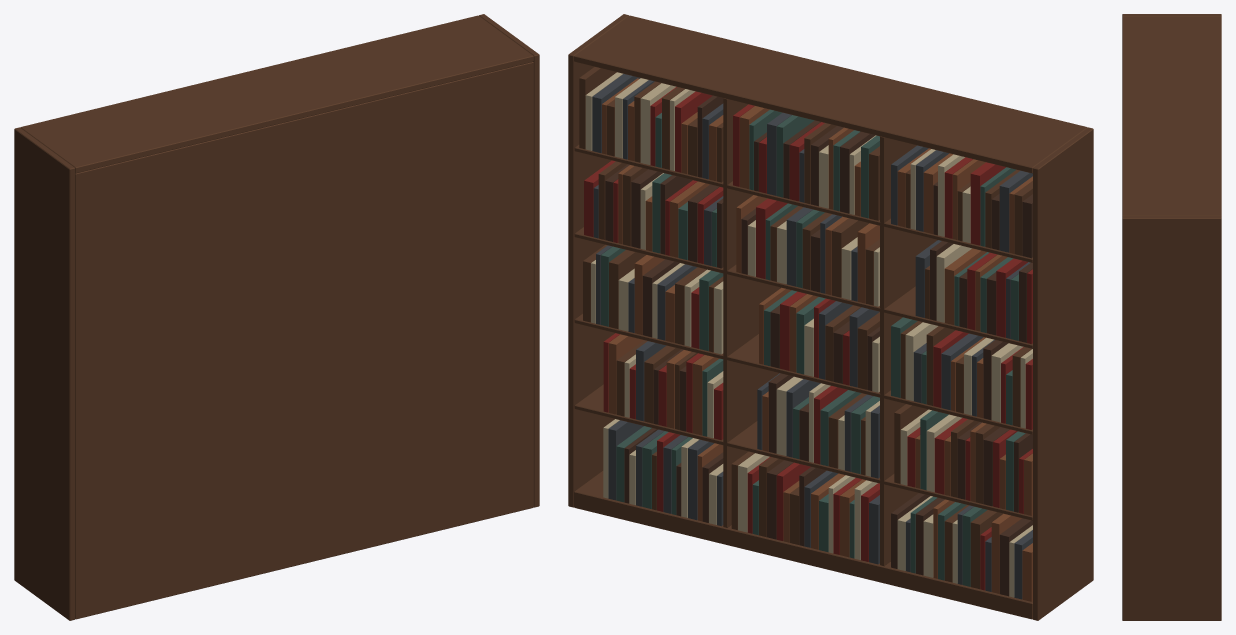
The model's file is prop_bookcase_w240.glb.
3 views of the same model, side by side, from view 1: azimuth 30°, elevation 25°; view 2: azimuth 150°, elevation 25°; view 3: azimuth 270°, elevation 25° (orthographic). The views are drawn at different scales.
Visible parts, largest first — view 1: Bookcase; view 2: Bookcase; view 3: Bookcase.
Boxes of the visible parts, x1,y1,x2,y2 form: Bookcase: [14, 14, 539, 620]; Bookcase: [568, 14, 1093, 620]; Bookcase: [1122, 14, 1221, 620].
Size of what is drawn, in the model's own units: 2.39 by 2.19 by 0.49.
